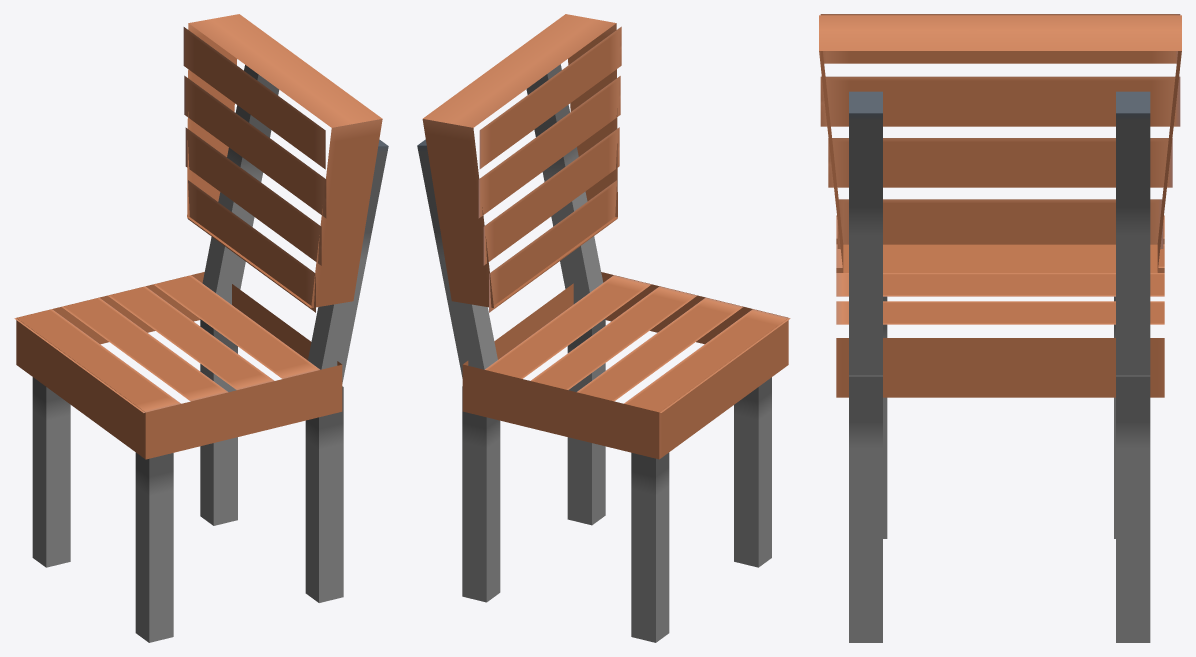
The model's file is Chair_Small.obj.
3 views of the same model, side by side, from view 1: azimuth 30°, elevation 25°; view 2: azimuth 150°, elevation 25°; view 3: azimuth 270°, elevation 25° (orthographic). The views are drawn at different scales.
Visible parts, largest first — view 1: Chair_Small; view 2: Chair_Small; view 3: Chair_Small.
Part boxes in pixels (x1=…): Chair_Small: x1=14, y1=14, x2=388, y2=642; Chair_Small: x1=417, y1=14, x2=790, y2=642; Chair_Small: x1=819, y1=14, x2=1181, y2=642.
Bounding box in the file's own units: 0.5433 × 1 × 0.539.
